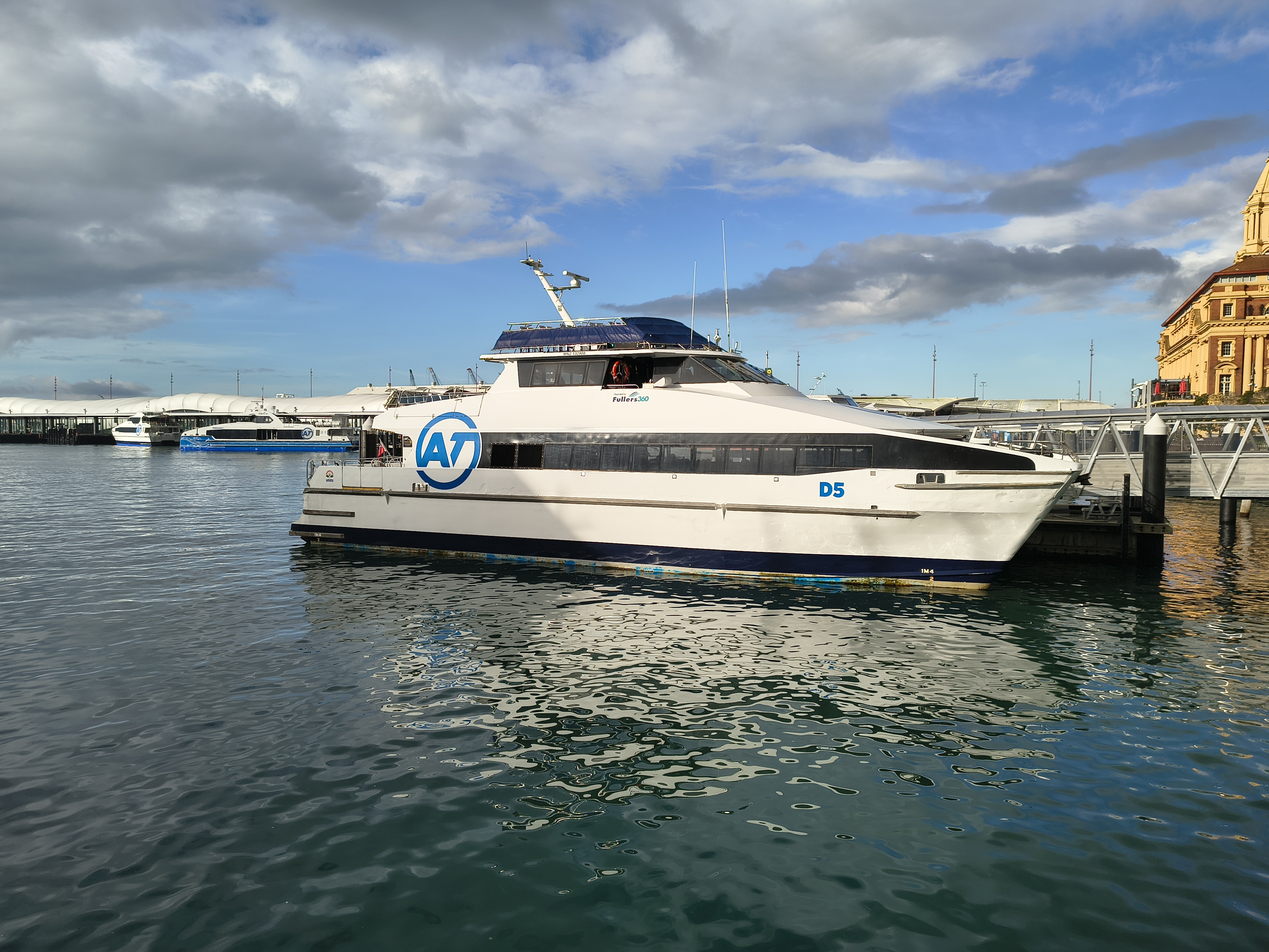ferry: (284, 258, 1080, 594), (180, 401, 357, 454), (111, 404, 186, 446)
